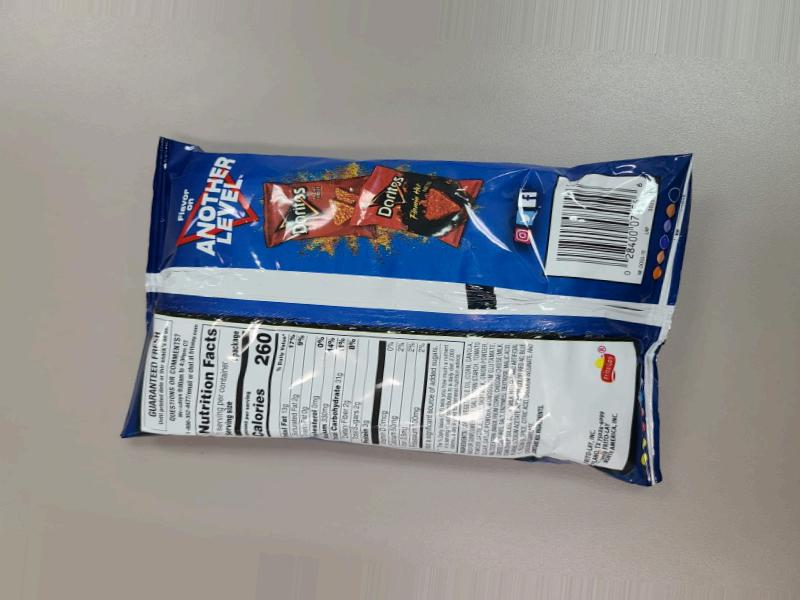doritos: (168, 185, 737, 505)
